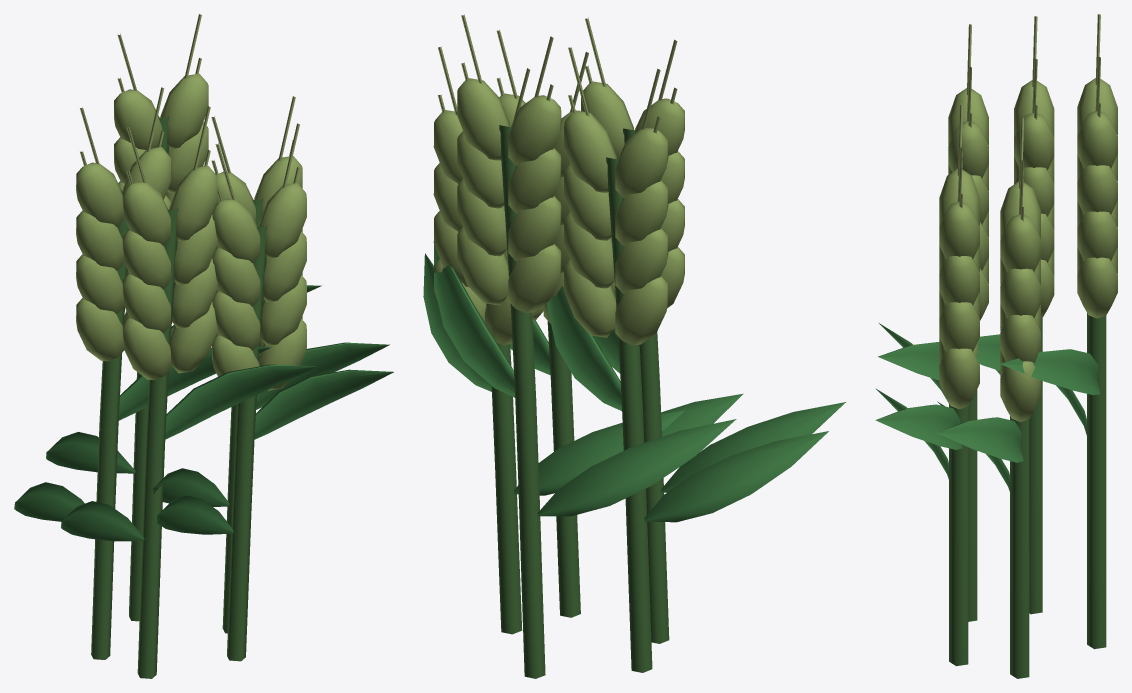
Rendered from trigo_2.glb.
3 renders of one model, left to right at view 1: azimuth 30°, elevation 25°; view 2: azimuth 150°, elevation 25°; view 3: azimuth 270°, elevation 25°, orthographic. The views are drawn at different scales.
Parts seen in each view (by area): view 1: trigo_2_espigas_0; view 2: trigo_2_espigas_0; view 3: trigo_2_espigas_0.
Part boxes in pixels (x1,y1,x2,y2): trigo_2_espigas_0: (14,14,393,678); trigo_2_espigas_0: (423,14,845,678); trigo_2_espigas_0: (875,14,1117,678).
Size of the model in its own units: 0.3837 by 0.5788 by 0.2046.
